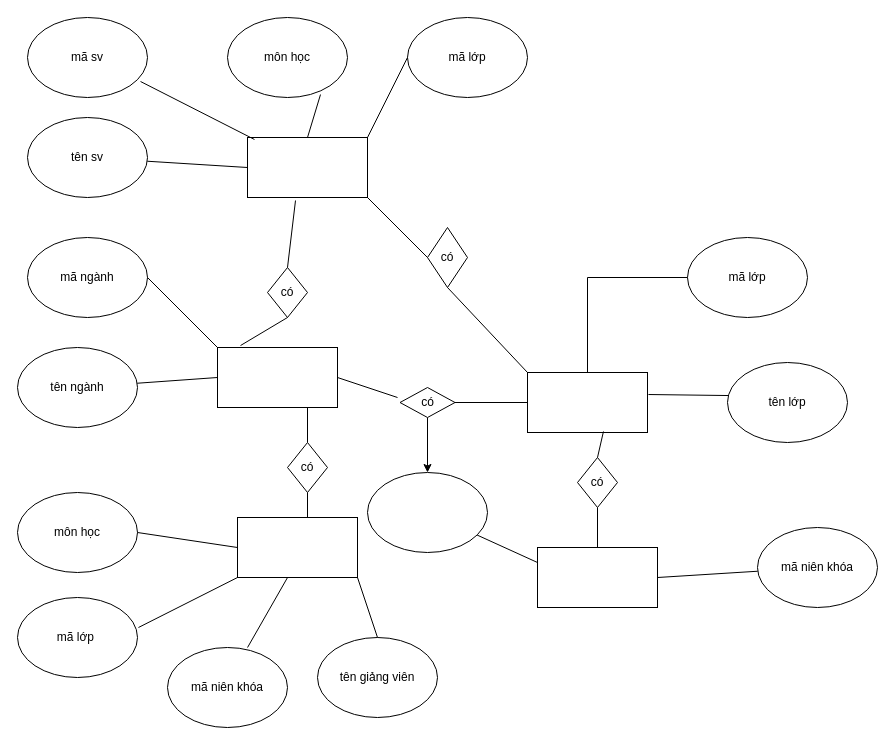
Some shapes in this 895 by 745 pixel diagram are drawn without their labels. The shapes that lost their labels are listed below. From the top down, each one's centre as x and y in pixels, then its label:
(307,167): sinh viên
(277,377): ngành
(587,402): lớp
(427,512): tên niên khóa
(297,547): giảng viên
(597,577): niên khóa
